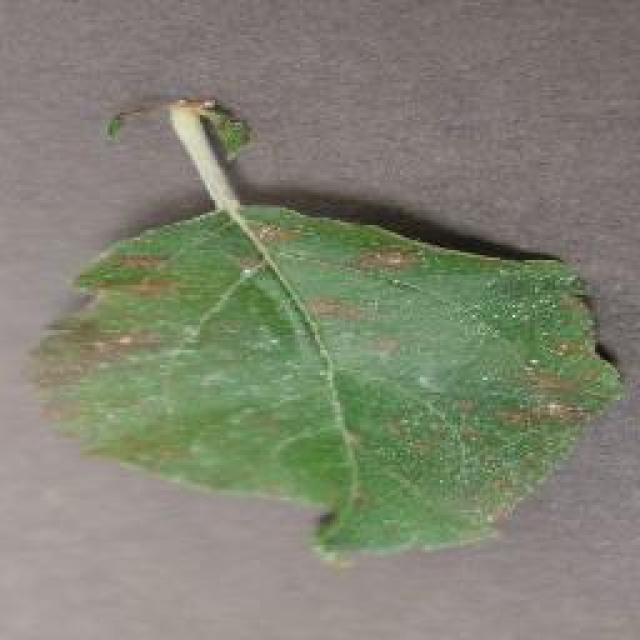apple rust disease: (30, 92, 628, 562)
